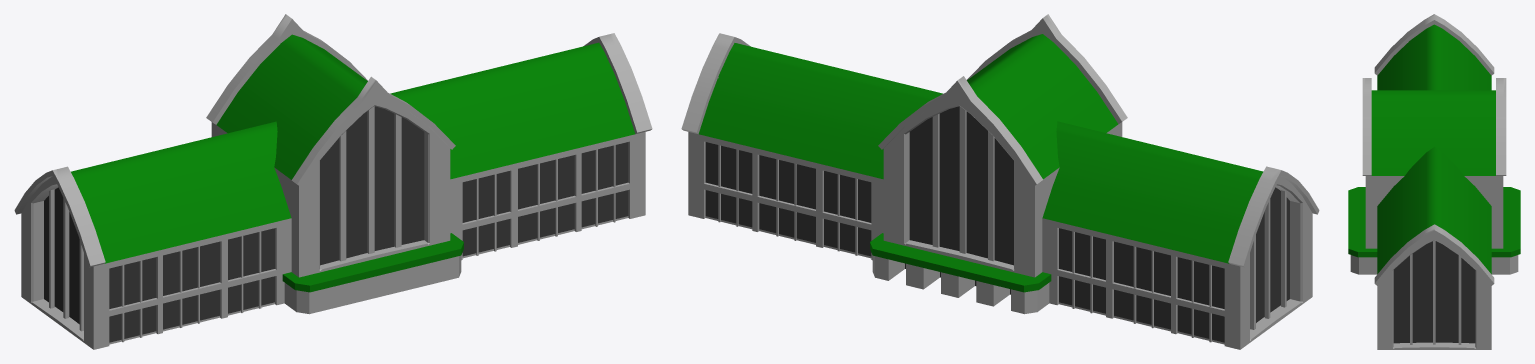
Rendered from tstation2.fbx.
The picture shows the model from 3 angles, left to right: view 1: azimuth 30°, elevation 25°; view 2: azimuth 150°, elevation 25°; view 3: azimuth 270°, elevation 25°; orthographic projection. The views are drawn at different scales.
Parts seen in each view (by area): view 1: pCube23 (×4); view 2: pCube23 (×4); view 3: pCube23 (×4).
Boxes of the visible parts, x1,y1,x2,y2 form: pCube23 (×4): (14,14,652,349); pCube23 (×4): (681,14,1319,349); pCube23 (×4): (1348,14,1520,349).
Bounding box in the file's own units: 64.34 × 22.93 × 21.69.
